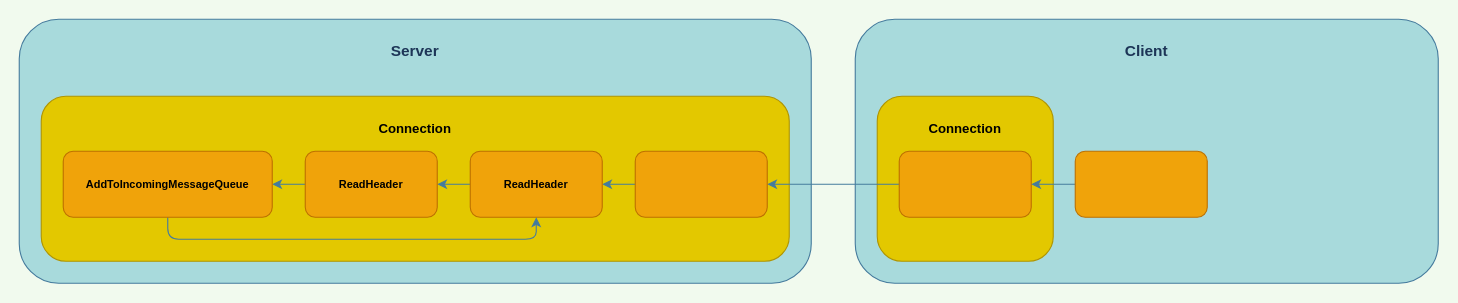
Some shapes in this 1458 by 303 pixel diagram are drawn without their labels. Each missing label, with the centre of its shape:
"AsyncConnect" goes at [700,183].
"Connect" goes at [1140,183].
"ConnectToServer" goes at [964,183].
